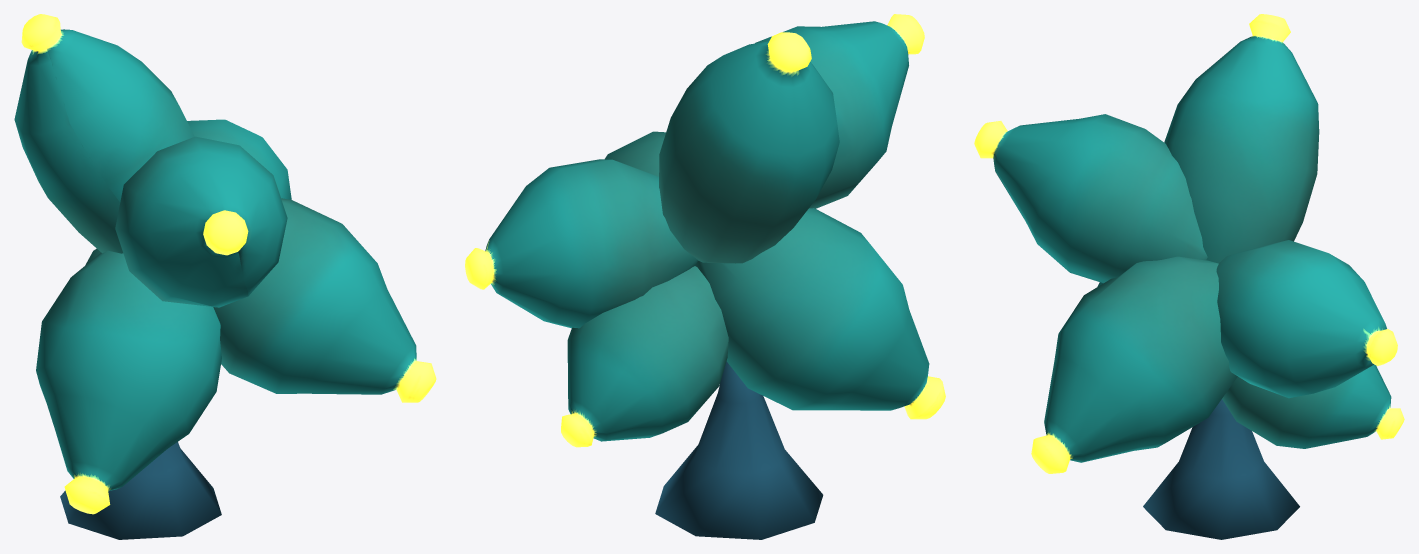
The model's file is Constellated Ganglion Tray (Male, young).fbx.
The picture shows the model from 3 angles, left to right: view 1: azimuth 30°, elevation 25°; view 2: azimuth 150°, elevation 25°; view 3: azimuth 270°, elevation 25°; orthographic projection. The views are drawn at different scales.
Visible parts, largest first — view 1: Young; view 2: Young; view 3: Young.
Boxes of the visible parts, x1,y1,x2,y2 form: Young: [14, 14, 436, 539]; Young: [465, 14, 945, 539]; Young: [974, 14, 1404, 539].
Size of the model in its own units: 21.86 by 30.38 by 25.79.
